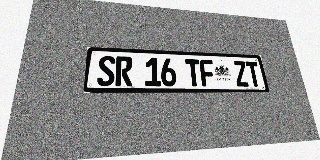1: (145, 57, 161, 86)
6: (160, 58, 177, 86)
F: (199, 59, 216, 86)
R: (115, 56, 132, 86)
S: (97, 55, 115, 86)
T: (185, 59, 202, 86), (245, 61, 262, 87)
Z: (233, 61, 250, 87)
